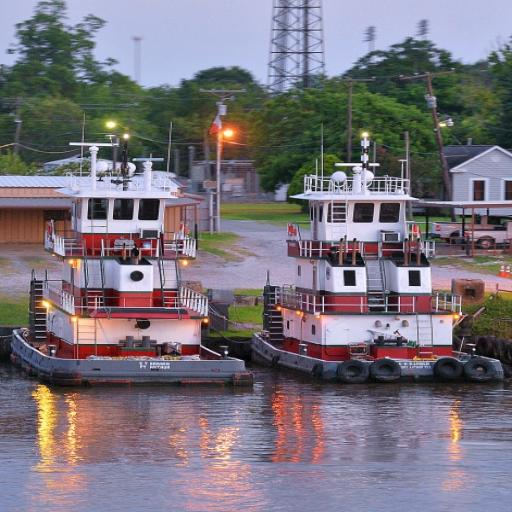tugboat: (7, 140, 261, 396), (249, 159, 510, 392)
